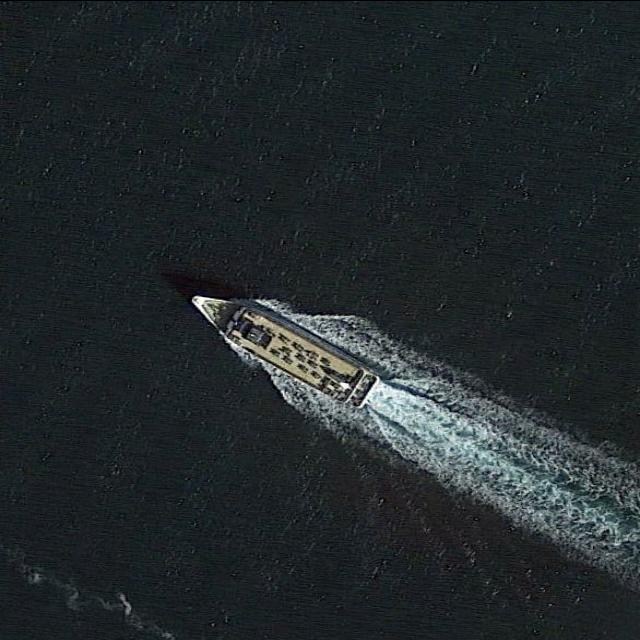ship: (189, 292, 381, 410)
